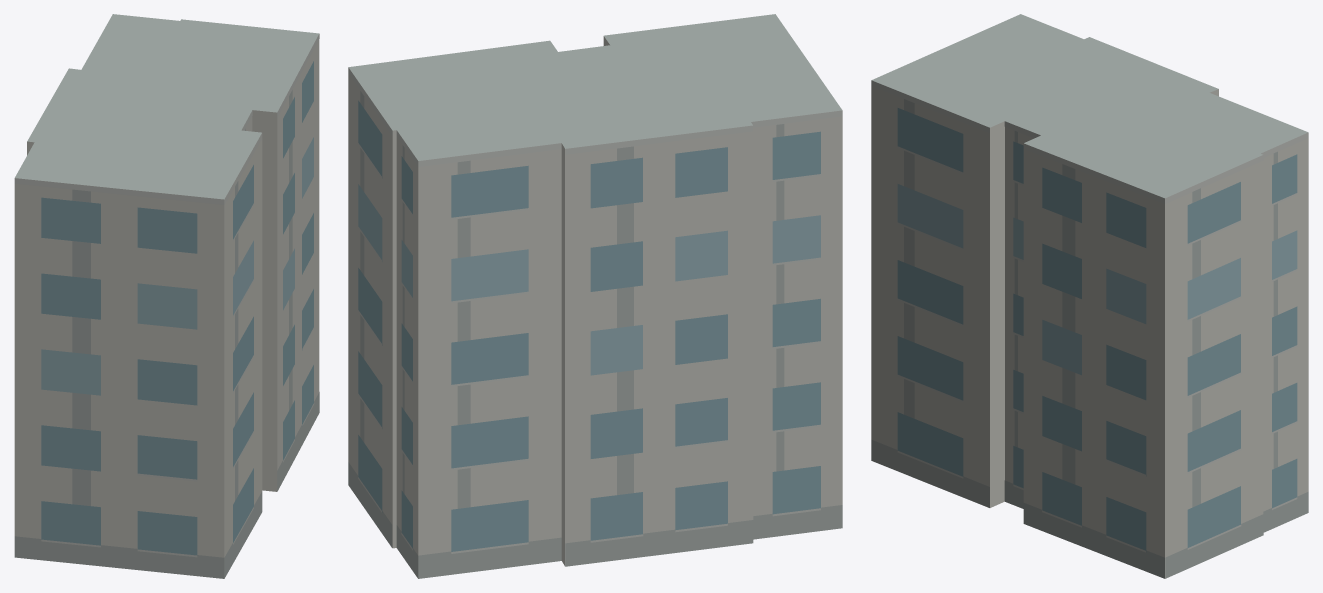
File: survey-upis-32549814.glb
3 views of the same model, side by side, from view 1: azimuth 30°, elevation 25°; view 2: azimuth 150°, elevation 25°; view 3: azimuth 270°, elevation 25° (orthographic). The views are drawn at different scales.
Parts seen in each view (by area): view 1: survey-upis-32549814.tmp; view 2: survey-upis-32549814.tmp; view 3: survey-upis-32549814.tmp.
Boxes of the visible parts, <box> form: survey-upis-32549814.tmp: <box>14,14,319,578</box>; survey-upis-32549814.tmp: <box>348,14,842,578</box>; survey-upis-32549814.tmp: <box>871,14,1308,578</box>.
Size of the model in its own units: 17.26 by 16.6 by 17.29.
